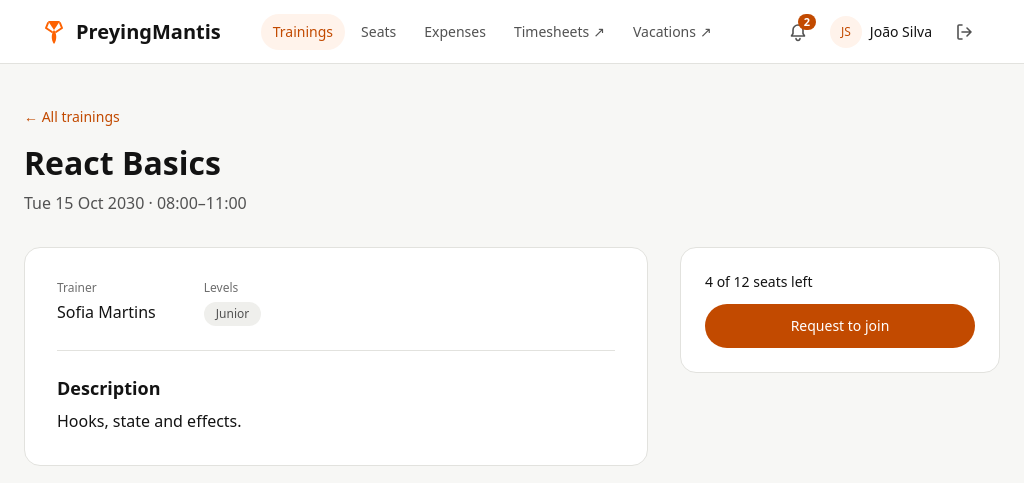
Test: join button › requests to join, then shows Pending everywhere
Click the button "Request to join" at (840, 326), box [705,304,975,348]
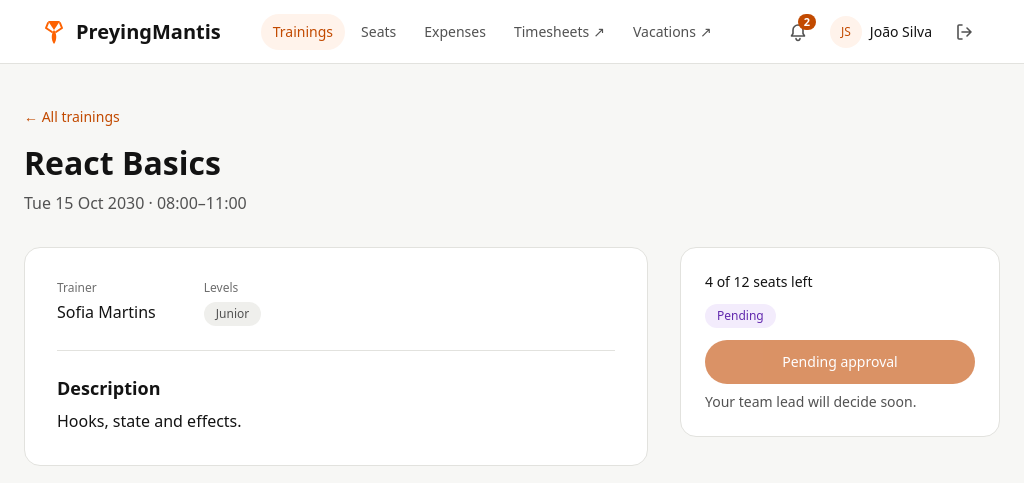
Expected: the button "Pending approval" is disabled, [705,340,975,384]
Expected: the text "Pending" is shown, [705,304,776,328]
